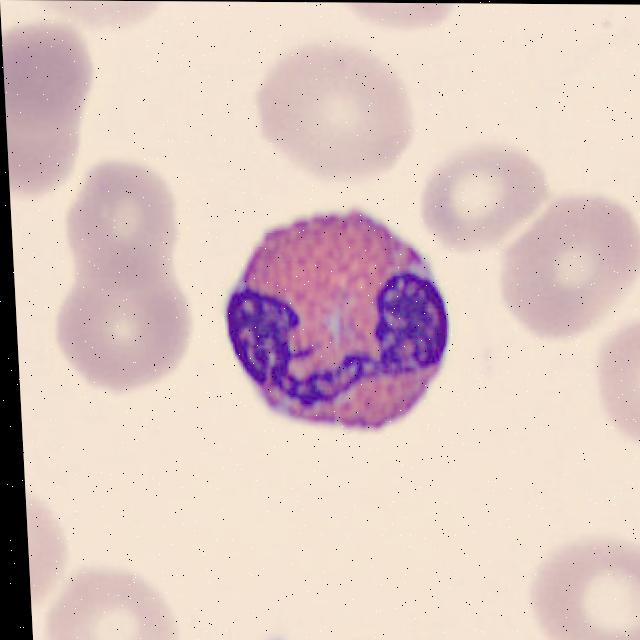eosinophil: (225, 198, 450, 437)
rbc: (257, 42, 425, 194), (492, 189, 640, 350), (44, 248, 201, 399), (413, 125, 551, 262), (57, 149, 184, 295), (524, 523, 640, 640), (1, 18, 104, 147), (32, 569, 193, 640), (590, 320, 640, 453), (26, 490, 75, 624), (343, 3, 487, 44), (52, 1, 169, 42)
